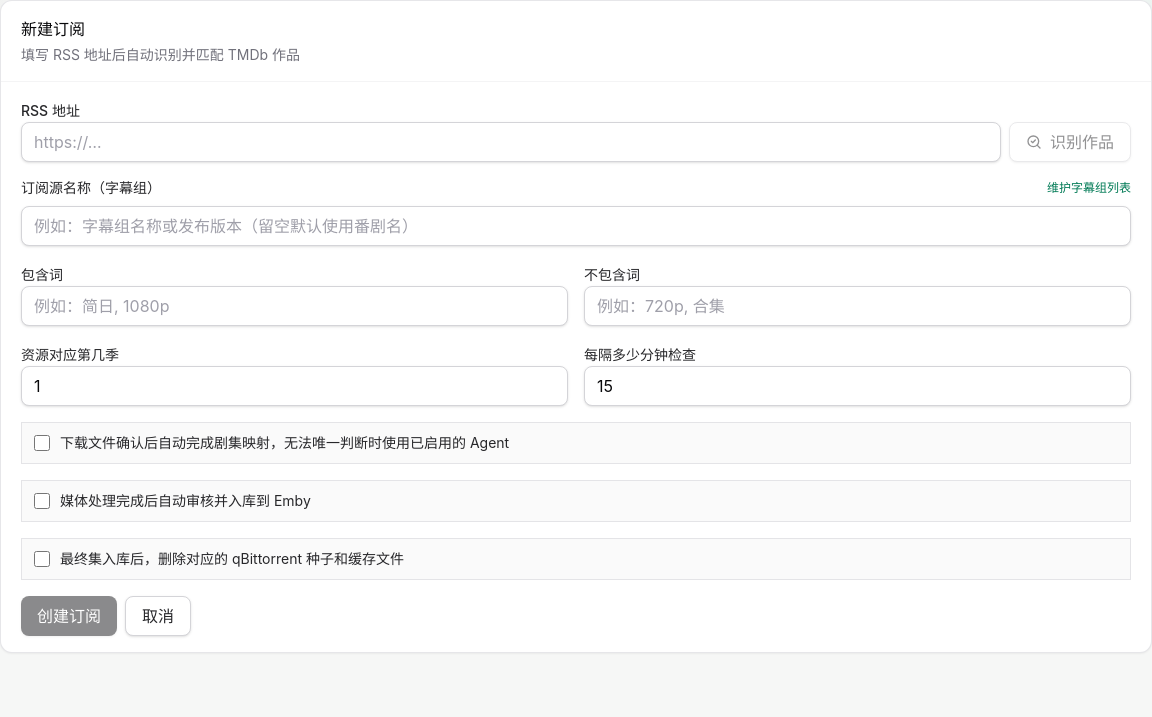
Test: 字幕组自动填写的请求状态 › 更换地址后清理旧自动名称并填写新识别名称
Type "https://example.test/first.xml" into the field labelled "RSS 地址" at (511, 142), box [21,122,1001,162]
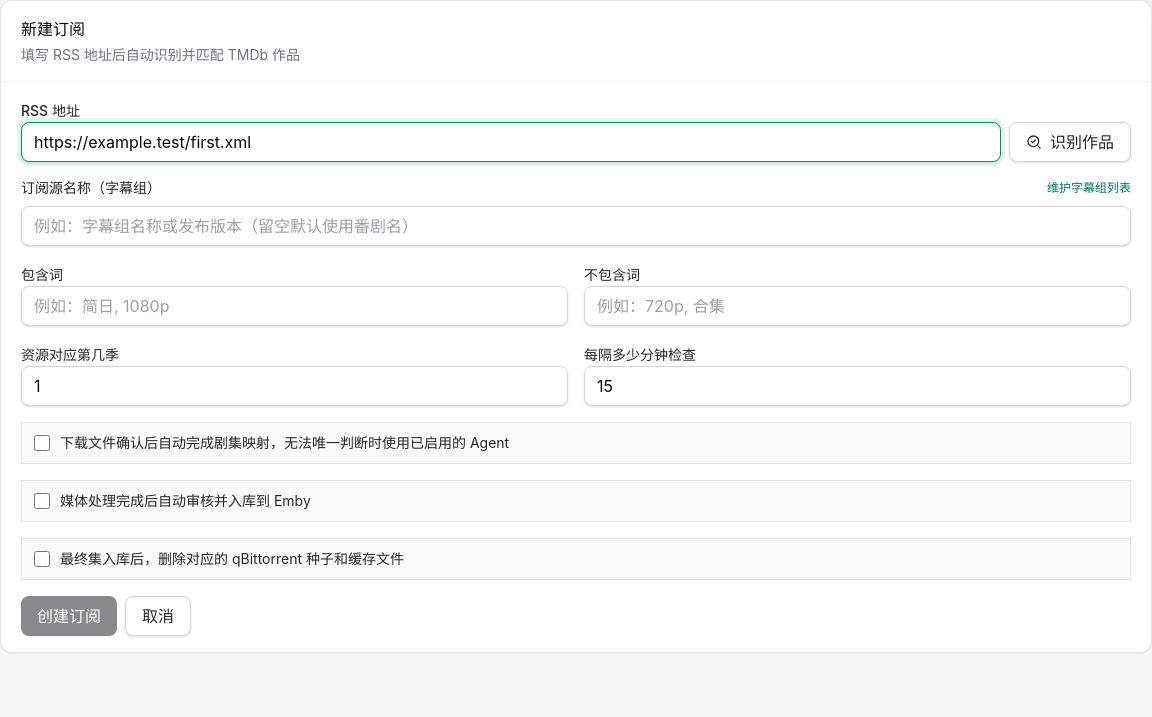
Press Tab
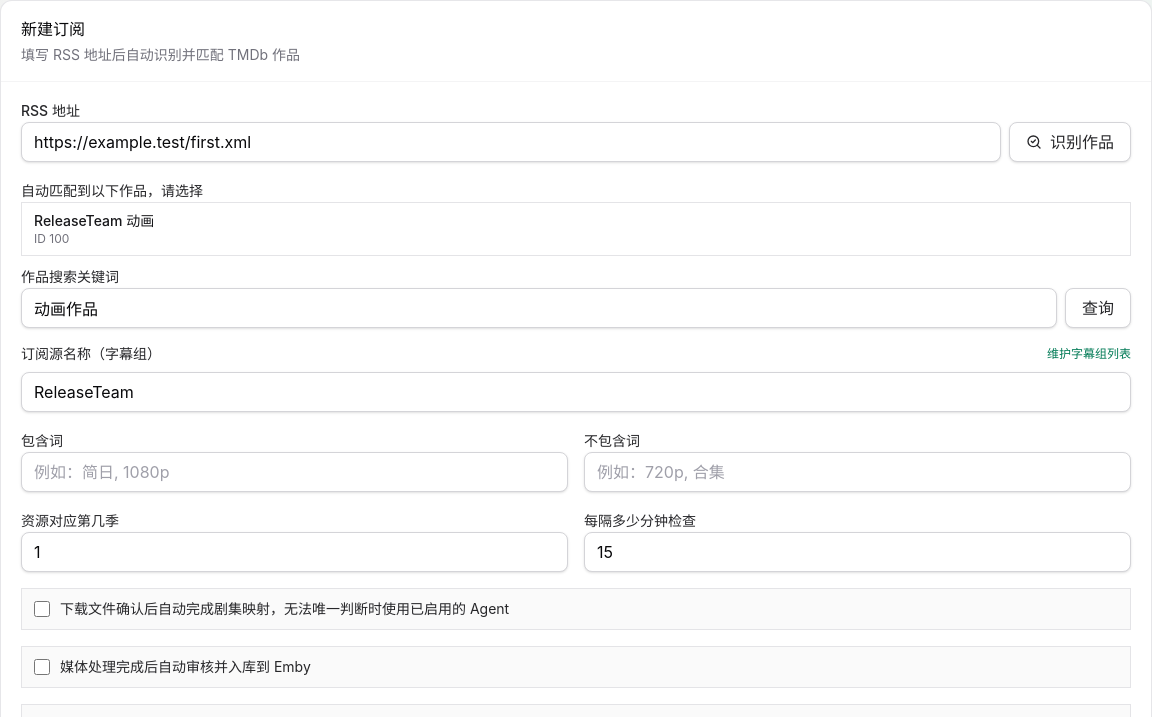
Check: the field labelled "订阅源名称（字幕组）" holds "ReleaseTeam", box [21,372,1131,412]
Clear the field labelled "RSS 地址" at (511, 142), box [21,122,1001,162]
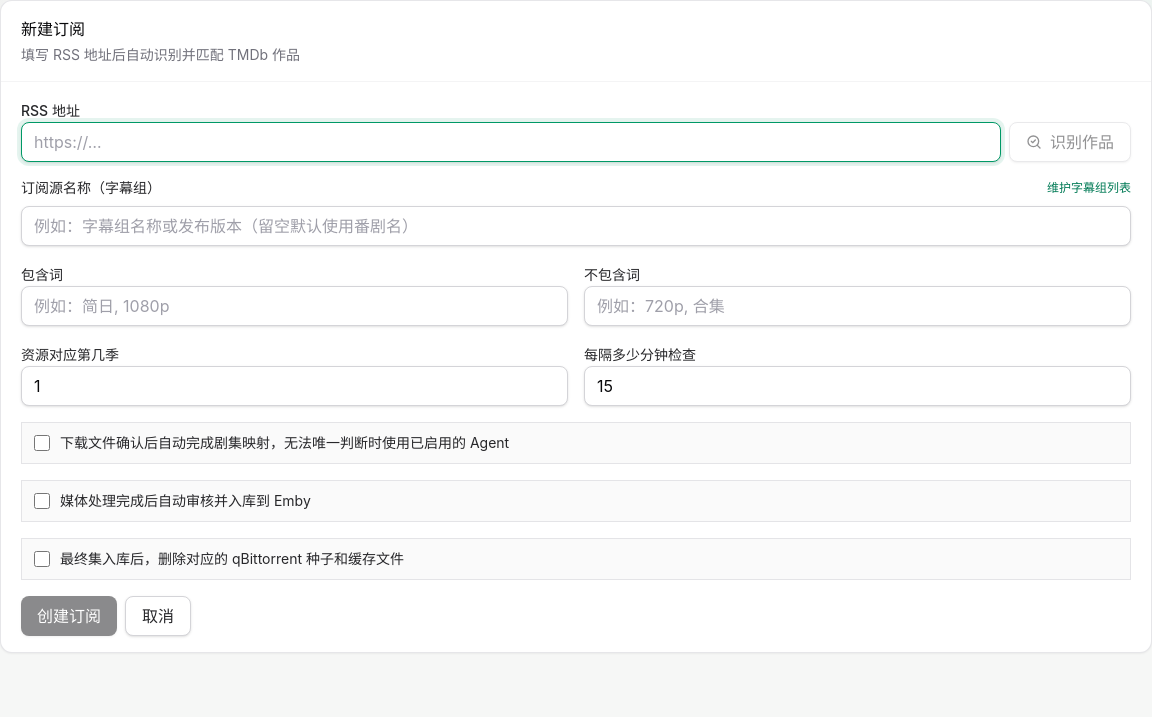
Check: the field labelled "订阅源名称（字幕组）" is empty, box [21,206,1131,246]
Type "https://example.test/second.xml" into the field labelled "RSS 地址" at (511, 142), box [21,122,1001,162]
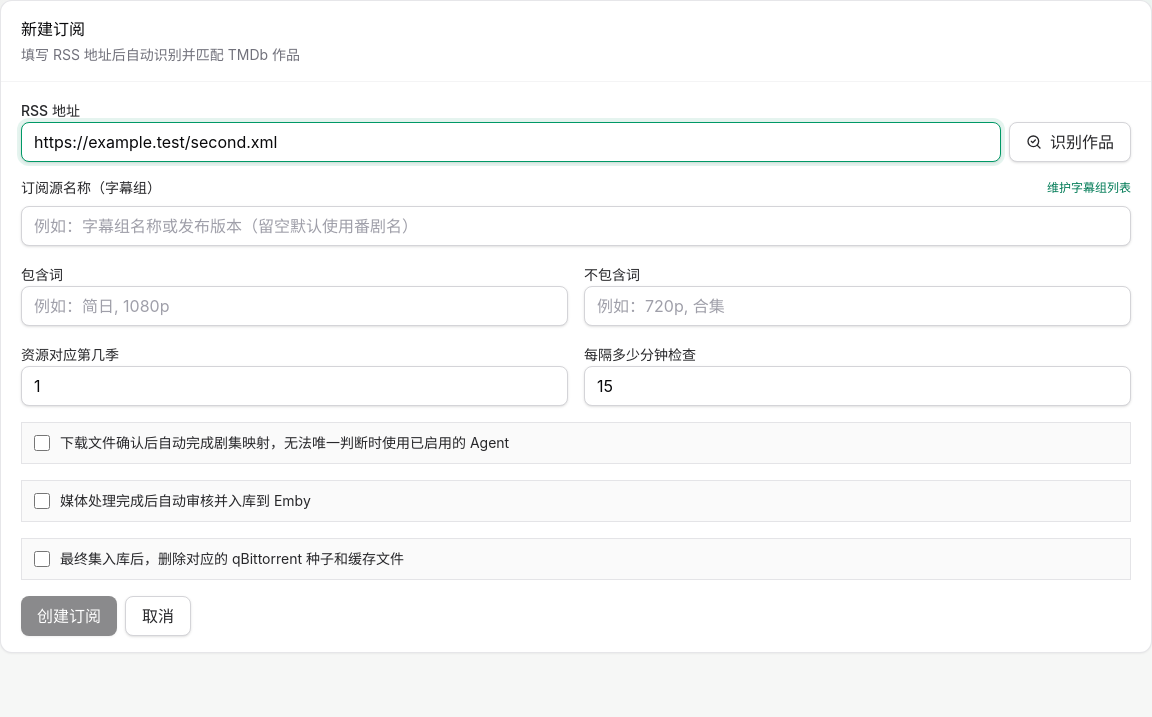
Press Tab
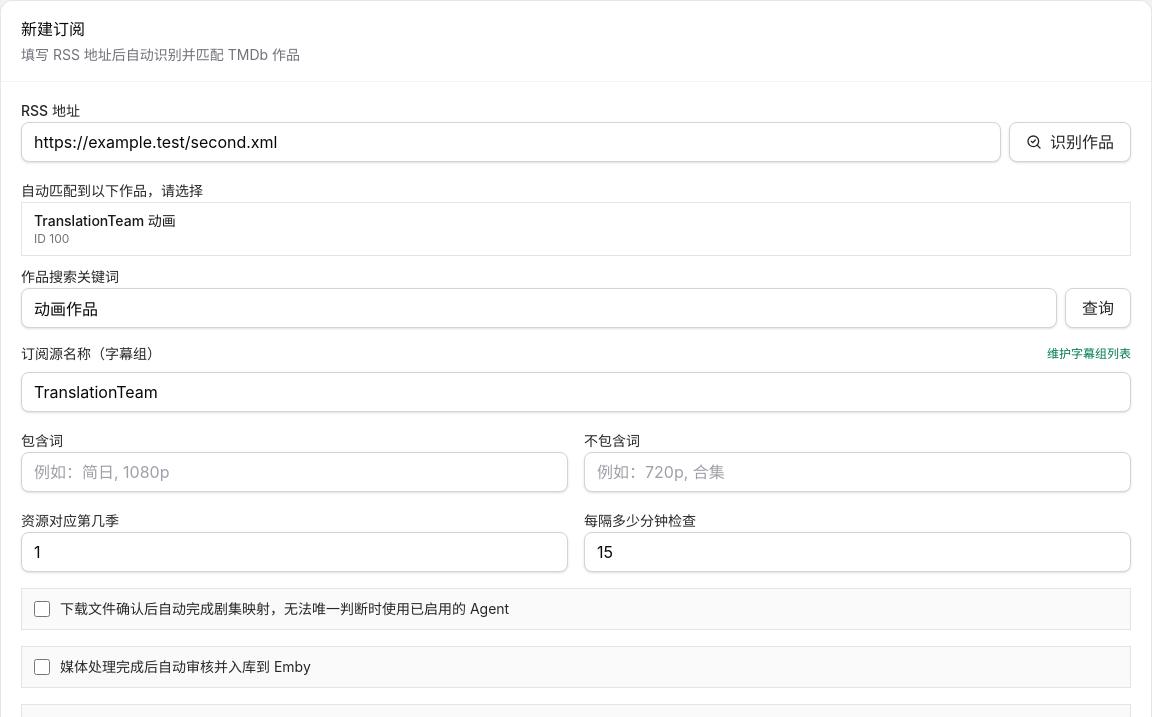
Check: the field labelled "订阅源名称（字幕组）" holds "TranslationTeam", box [21,372,1131,412]
